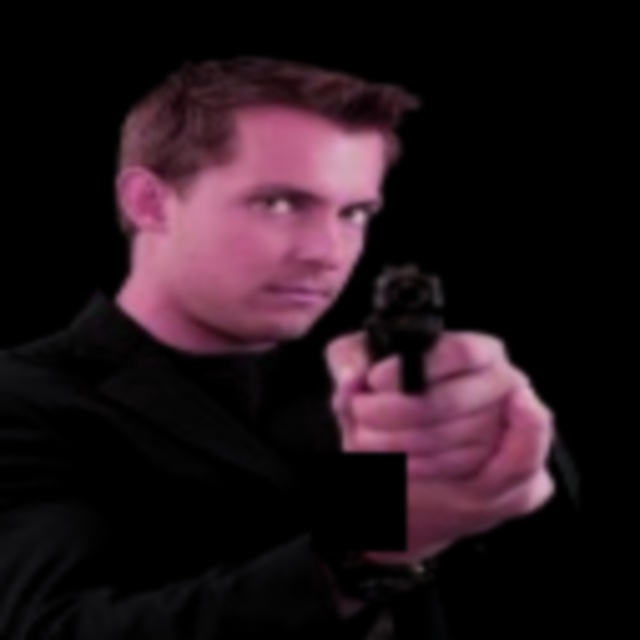gun: (327, 247, 463, 430)
